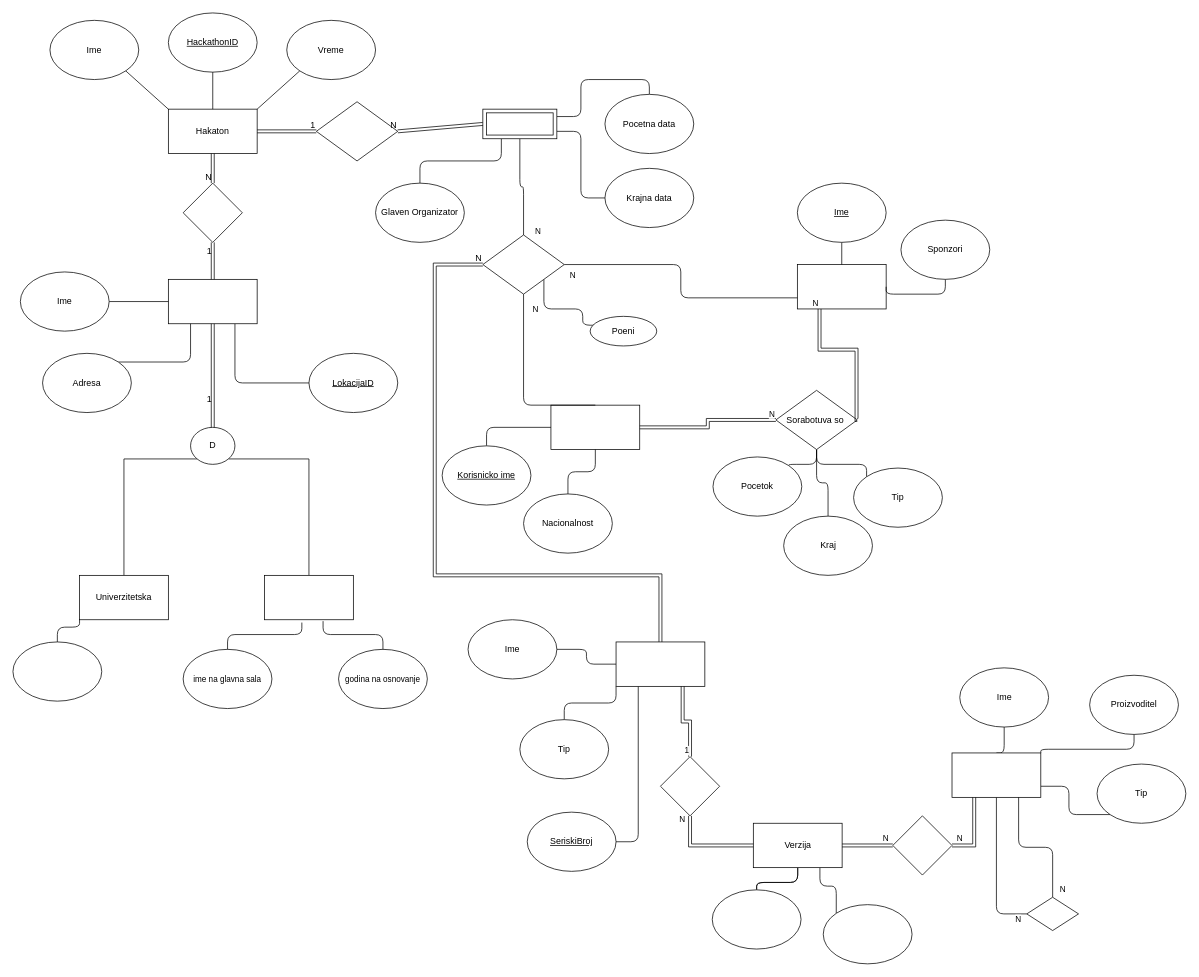
Image size: 1199x977. Some labels were removed from this diagram. Each missing label, with the box of its shape:
Broj na labs: (12, 641, 102, 701)
Broj na verzija: (712, 889, 801, 949)
Datum na prijava: (823, 904, 912, 964)
ima: (182, 182, 242, 242)
Inzhener: (550, 404, 640, 450)
Kompanija: (797, 264, 886, 309)
Komponenta: (951, 752, 1041, 797)
Lokacija: (168, 279, 257, 324)
Odrzan hakaton: (482, 108, 557, 139)
Postoi: (660, 756, 720, 816)
Prezentira: (482, 234, 564, 294)
Robot: (615, 641, 705, 686)
Se odrzhuva: (316, 101, 398, 161)
Sodrzhi: (892, 815, 952, 875)
Tehnoloski park: (264, 575, 353, 620)
